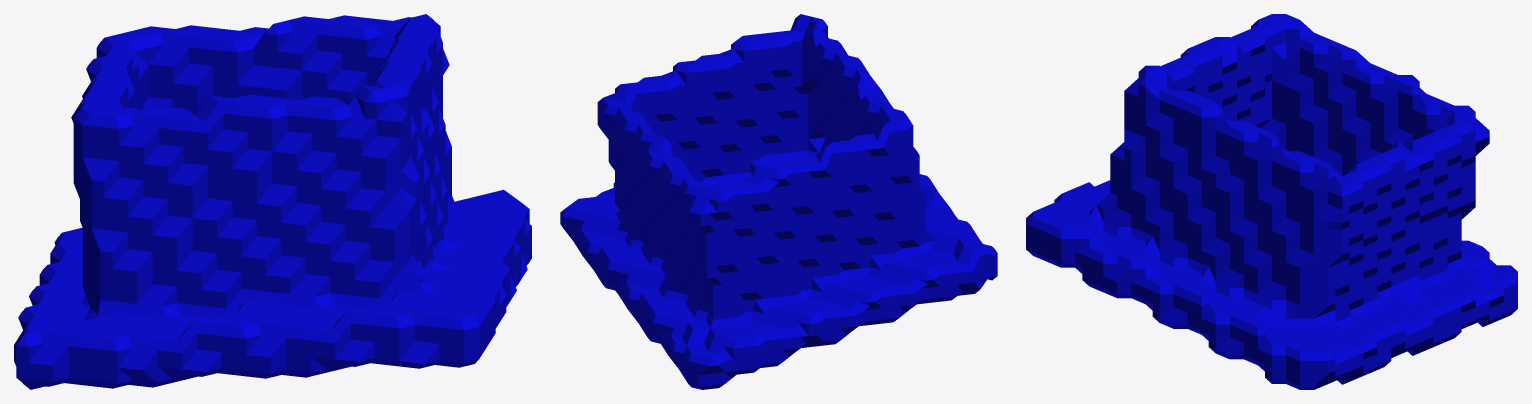
Rendered from combined_meshes.glb.
The picture shows the model from 3 angles, left to right: view 1: azimuth 30°, elevation 25°; view 2: azimuth 150°, elevation 25°; view 3: azimuth 270°, elevation 25°; orthographic projection. The views are drawn at different scales.
Parts seen in each view (by area): view 1: simplified_mesh; view 2: simplified_mesh; view 3: simplified_mesh.
Part boxes in pixels (<box>): simplified_mesh: <box>14,14,531,389</box>; simplified_mesh: <box>560,14,997,389</box>; simplified_mesh: <box>1026,14,1517,389</box>.
Bounding box in the file's own units: 0.5383 × 0.314 × 0.5234.
